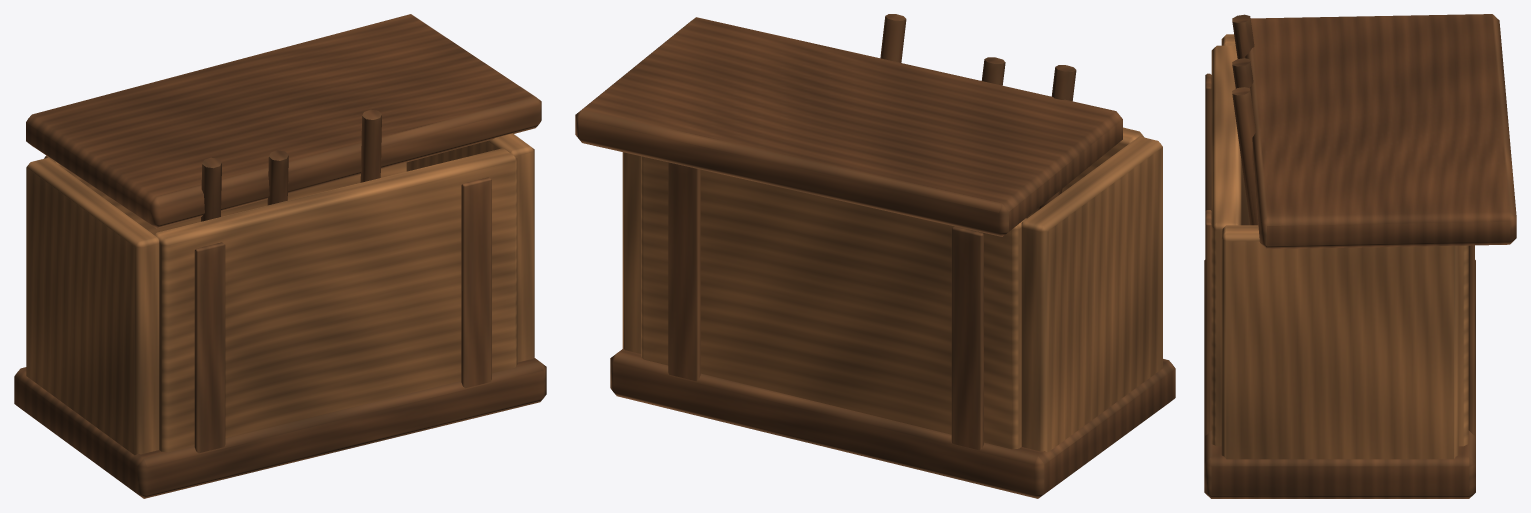
The model's file is Furn_Storage_ToolCrate.fbx.
The picture shows the model from 3 angles, left to right: view 1: azimuth 30°, elevation 25°; view 2: azimuth 150°, elevation 25°; view 3: azimuth 270°, elevation 25°; orthographic projection. The views are drawn at different scales.
Parts seen in each view (by area): view 1: Furn_Storage_ToolCrate; view 2: Furn_Storage_ToolCrate; view 3: Furn_Storage_ToolCrate.
Part boxes in pixels (left/top/right/bottom): Furn_Storage_ToolCrate: left=14, top=14, right=546, bottom=498; Furn_Storage_ToolCrate: left=575, top=14, right=1175, bottom=498; Furn_Storage_ToolCrate: left=1204, top=14, right=1516, bottom=498.
Size of the model in its own units: 1 by 0.7 by 0.6.
Materials: 2 (2 with a texture image).
